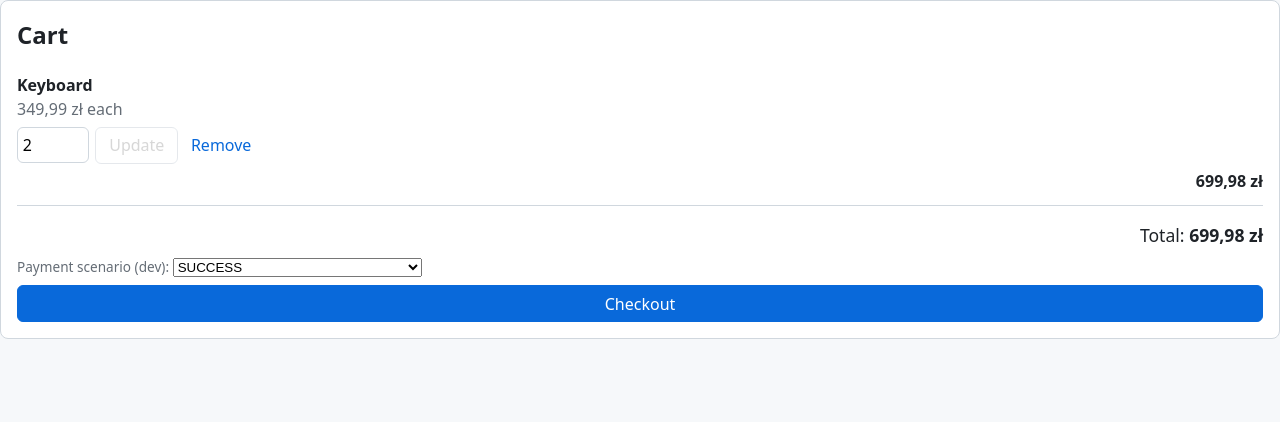
Scenario: CartPanel checkout › shows the API error and allows another attempt after a failure
This screenshot has width=1280, height=422.
Click the button "Checkout". click: (640, 304)
box: top-left (17, 285), bottom-right (1263, 322)
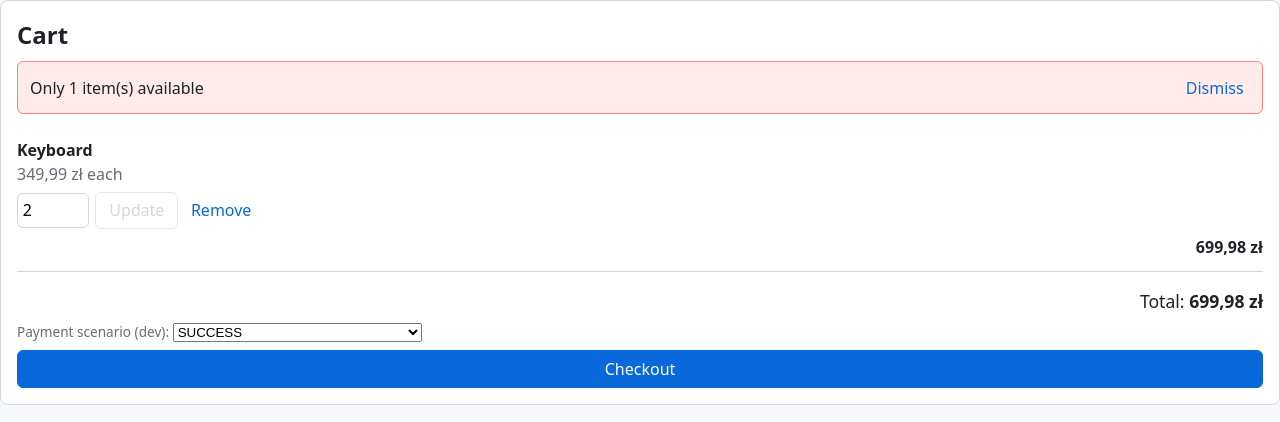
expect the button "Checkout" is enabled: met, box top-left (17, 350), bottom-right (1263, 388)
expect the message shows "Only 1 item(s) available": met, box top-left (30, 77), bottom-right (204, 99)
